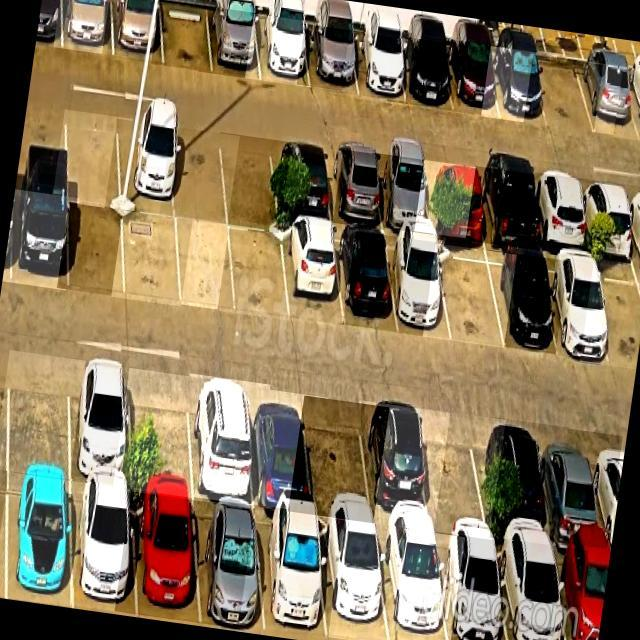empty: (422, 410, 490, 539), (304, 396, 373, 523), (130, 368, 195, 498), (9, 352, 70, 477), (437, 245, 504, 348), (221, 134, 279, 233), (176, 220, 236, 312), (172, 127, 228, 225), (123, 212, 181, 306), (230, 229, 289, 320), (65, 110, 120, 207), (69, 203, 125, 297), (595, 259, 640, 369), (533, 56, 594, 133), (161, 0, 213, 73)
occupied: (192, 500, 264, 632), (360, 404, 434, 531), (256, 510, 327, 640), (131, 492, 201, 623), (318, 517, 389, 640), (6, 475, 71, 607), (540, 425, 607, 552), (73, 482, 137, 614), (189, 377, 254, 506), (247, 387, 313, 512), (376, 528, 448, 640), (70, 358, 131, 487), (491, 418, 552, 545), (436, 533, 508, 640), (543, 254, 611, 360), (495, 540, 566, 640), (487, 251, 556, 351), (386, 236, 451, 340), (335, 229, 399, 330), (283, 223, 343, 326), (117, 119, 175, 218), (11, 190, 68, 290), (553, 546, 611, 640), (476, 167, 540, 251), (272, 142, 333, 224), (577, 61, 640, 139), (425, 161, 486, 241), (325, 147, 385, 228), (373, 153, 433, 233), (532, 173, 590, 253), (580, 179, 636, 258), (491, 47, 547, 126), (446, 41, 500, 118), (255, 15, 311, 87), (397, 39, 453, 110), (208, 6, 261, 80), (350, 32, 405, 102), (305, 25, 357, 93), (112, 0, 164, 63), (63, 0, 113, 56), (623, 69, 640, 136)
